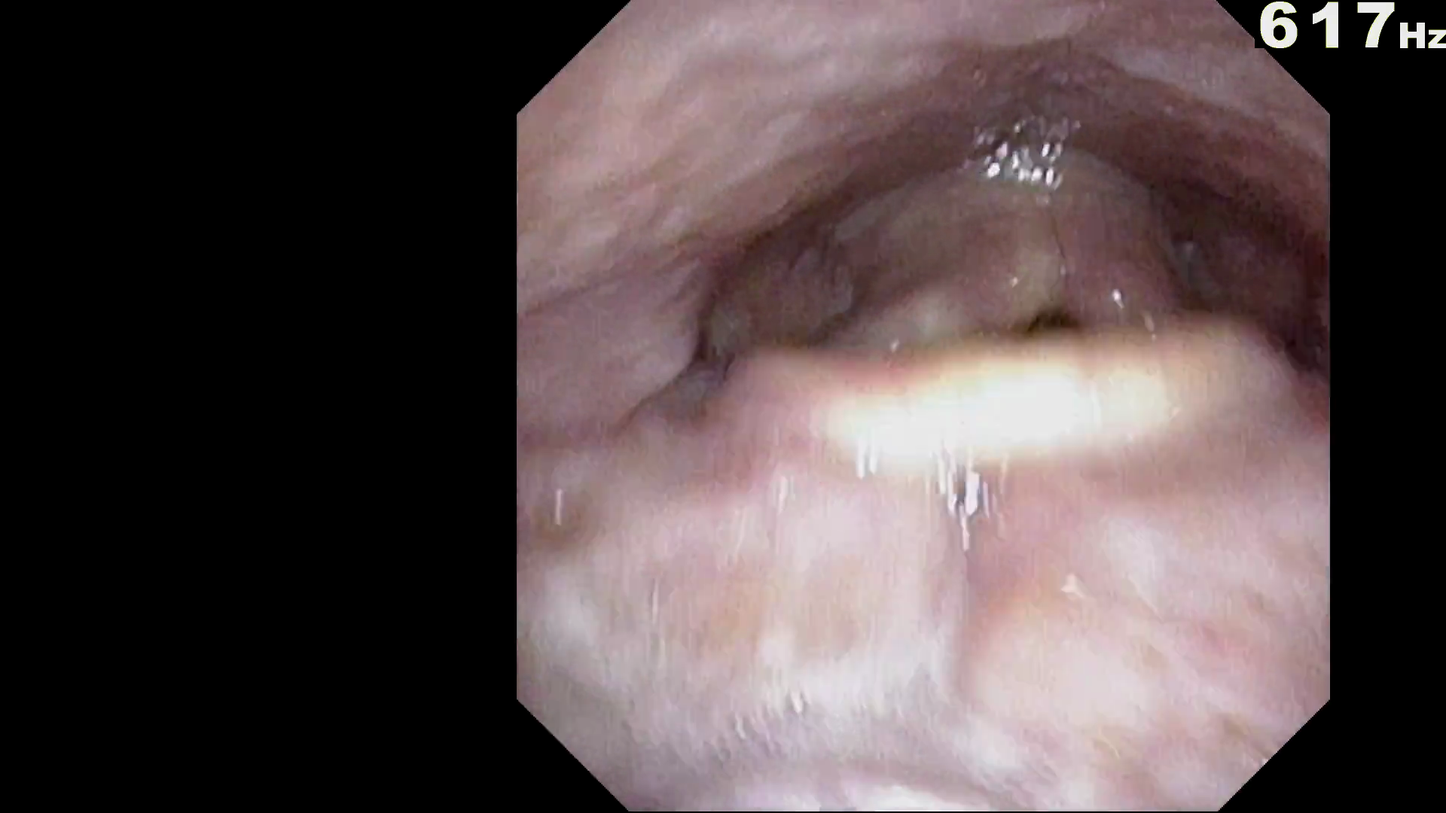epiglottis: (757, 333, 1264, 548)
trachea: (967, 297, 1073, 402)
